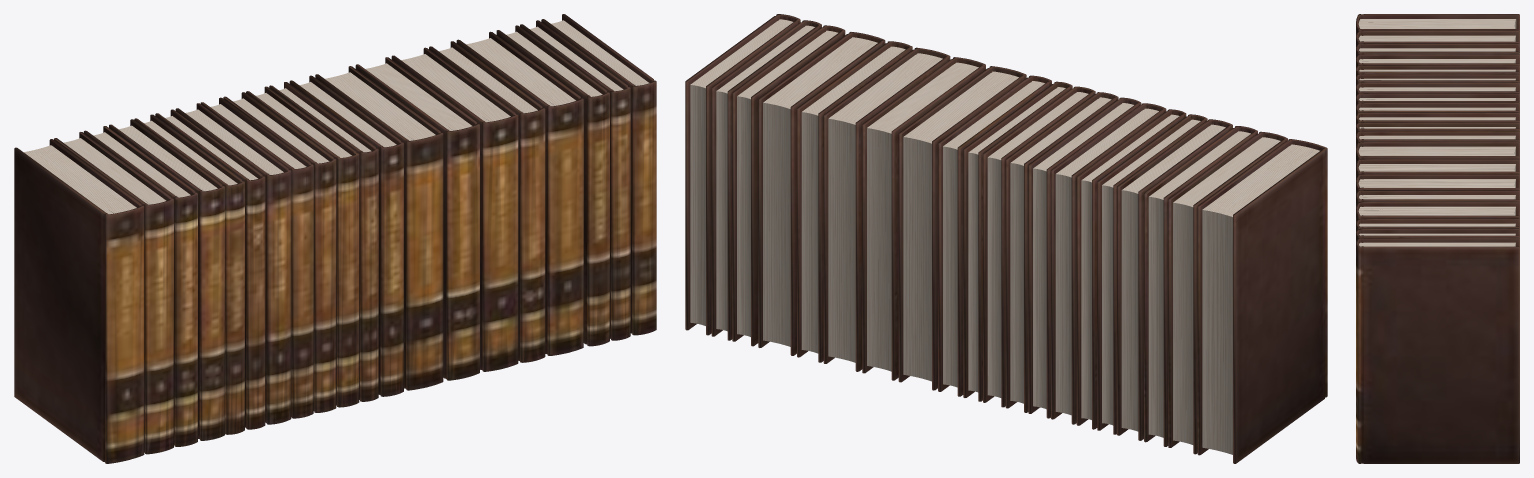
File: book_encyclopedia_set_01.glb
3 views of the same model, side by side, from view 1: azimuth 30°, elevation 25°; view 2: azimuth 150°, elevation 25°; view 3: azimuth 270°, elevation 25° (orthographic). The views are drawn at different scales.
Visible parts, largest first — view 1: book_encyclopedia_set_01_book01, book_encyclopedia_set_01_book13, book_encyclopedia_set_01_book15, book_encyclopedia_set_01_book17, book_encyclopedia_set_01_book14, book_encyclopedia_set_01_book02, book_encyclopedia_set_01_book16, book_encyclopedia_set_01_book04, book_encyclopedia_set_01_book18, book_encyclopedia_set_01_book20, book_encyclopedia_set_01_book07, book_encyclopedia_set_01_book12 (+8 smaller); view 2: book_encyclopedia_set_01_book01, book_encyclopedia_set_01_book13, book_encyclopedia_set_01_book15, book_encyclopedia_set_01_book17, book_encyclopedia_set_01_book14, book_encyclopedia_set_01_book02, book_encyclopedia_set_01_book04, book_encyclopedia_set_01_book16, book_encyclopedia_set_01_book18, book_encyclopedia_set_01_book20, book_encyclopedia_set_01_book07, book_encyclopedia_set_01_book12 (+8 smaller); view 3: book_encyclopedia_set_01_book20, book_encyclopedia_set_01_book13, book_encyclopedia_set_01_book01, book_encyclopedia_set_01_book17, book_encyclopedia_set_01_book15, book_encyclopedia_set_01_book14, book_encyclopedia_set_01_book02, book_encyclopedia_set_01_book16, book_encyclopedia_set_01_book03, book_encyclopedia_set_01_book12, book_encyclopedia_set_01_book04, book_encyclopedia_set_01_book07 (+8 smaller).
Part boxes in pixels (x1,y1,x2,y2): book_encyclopedia_set_01_book01: (14,139,144,463); book_encyclopedia_set_01_book13: (315,66,443,390); book_encyclopedia_set_01_book15: (391,47,518,371); book_encyclopedia_set_01_book17: (456,31,583,355); book_encyclopedia_set_01_book14: (355,57,479,380); book_encyclopedia_set_01_book02: (54,132,173,454); book_encyclopedia_set_01_book16: (429,41,545,362); book_encyclopedia_set_01_book04: (109,119,224,440); book_encyclopedia_set_01_book18: (496,25,609,346); book_encyclopedia_set_01_book20: (541,14,656,335); book_encyclopedia_set_01_book07: (175,103,291,424); book_encyclopedia_set_01_book12: (289,75,403,396); book_encyclopedia_set_01_book01: (1197,139,1327,463); book_encyclopedia_set_01_book13: (898,66,1026,390); book_encyclopedia_set_01_book15: (823,47,950,371); book_encyclopedia_set_01_book17: (758,32,885,355); book_encyclopedia_set_01_book14: (862,57,985,380); book_encyclopedia_set_01_book02: (1168,131,1287,454); book_encyclopedia_set_01_book04: (1117,119,1232,440); book_encyclopedia_set_01_book16: (797,41,912,362); book_encyclopedia_set_01_book18: (732,25,845,346); book_encyclopedia_set_01_book20: (685,14,800,335); book_encyclopedia_set_01_book07: (1051,103,1166,424); book_encyclopedia_set_01_book12: (938,75,1051,396); book_encyclopedia_set_01_book20: (1356,238,1519,463); book_encyclopedia_set_01_book13: (1356,142,1519,165); book_encyclopedia_set_01_book01: (1356,14,1519,35); book_encyclopedia_set_01_book17: (1356,202,1519,221); book_encyclopedia_set_01_book15: (1356,174,1519,194); book_encyclopedia_set_01_book14: (1356,159,1519,181); book_encyclopedia_set_01_book02: (1356,30,1519,47); book_encyclopedia_set_01_book16: (1356,190,1519,222); book_encyclopedia_set_01_book03: (1356,43,1519,58); book_encyclopedia_set_01_book12: (1356,131,1519,149); book_encyclopedia_set_01_book04: (1356,54,1519,70); book_encyclopedia_set_01_book07: (1356,82,1519,96).
Size of the model in its own units: 0.5513 by 0.2374 by 0.1631.
2 materials, 2 textured.
